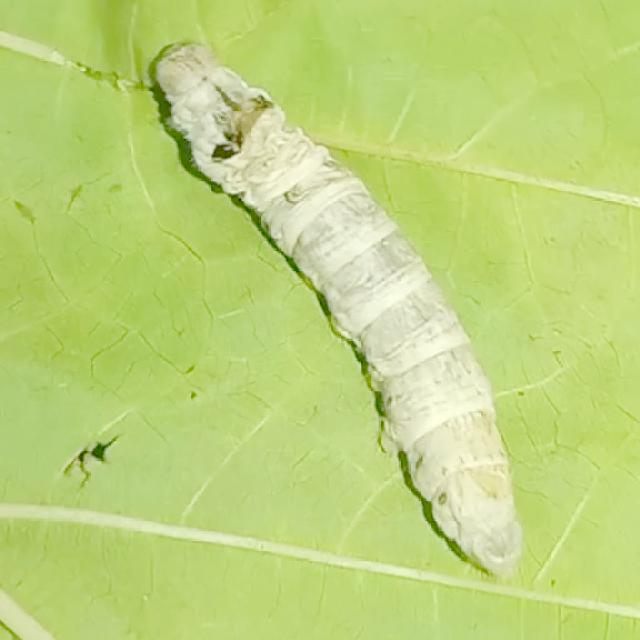Grasserie: (130, 7, 562, 606)
